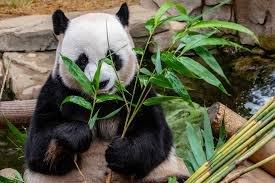bear: (27, 2, 190, 183)
